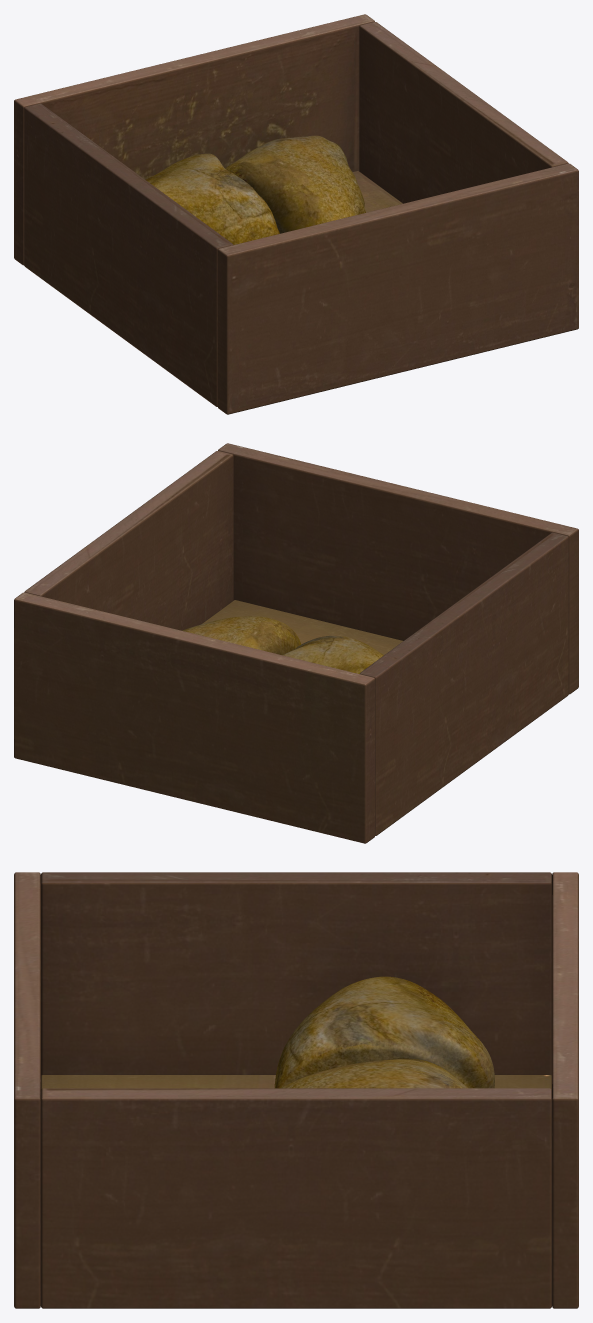
The model's file is caixa_02_rocha_alterada.glb.
The picture shows the model from 3 angles, top to bottom: view 1: azimuth 30°, elevation 25°; view 2: azimuth 150°, elevation 25°; view 3: azimuth 270°, elevation 25°; orthographic projection. The views are drawn at different scales.
Parts seen in each view (by area): view 1: Parede_Frontal_C02, Lateral_Esquerda_C02, Parede_Traseira_C02, Lateral_Direita_C02, Rocha_Alterada_Fragmento_02, Rocha_Alterada_Fragmento_01, Base_C02; view 2: Parede_Traseira_C02, Parede_Frontal_C02, Lateral_Esquerda_C02, Lateral_Direita_C02, Rocha_Alterada_Fragmento_02, Base_C02, Rocha_Alterada_Fragmento_01; view 3: Lateral_Direita_C02, Lateral_Esquerda_C02, Rocha_Alterada_Fragmento_01, Parede_Frontal_C02, Parede_Traseira_C02, Base_C02, Rocha_Alterada_Fragmento_02.
Boxes of the visible parts, <box> form: Parede_Frontal_C02: <box>217,163,578,414</box>; Lateral_Esquerda_C02: <box>24,103,233,406</box>; Parede_Traseira_C02: <box>14,14,374,265</box>; Lateral_Direita_C02: <box>359,22,568,203</box>; Rocha_Alterada_Fragmento_02: <box>225,135,365,233</box>; Rocha_Alterada_Fragmento_01: <box>145,153,279,244</box>; Base_C02: <box>353,171,402,212</box>; Parede_Traseira_C02: <box>14,592,375,843</box>; Parede_Frontal_C02: <box>218,443,578,694</box>; Lateral_Esquerda_C02: <box>359,532,568,835</box>; Lateral_Direita_C02: <box>24,451,233,630</box>; Rocha_Alterada_Fragmento_02: <box>182,616,301,655</box>; Base_C02: <box>201,600,403,654</box>; Rocha_Alterada_Fragmento_01: <box>283,635,383,673</box>; Lateral_Direita_C02: <box>41,1088,551,1308</box>; Lateral_Esquerda_C02: <box>41,872,551,1075</box>; Rocha_Alterada_Fragmento_01: <box>274,976,494,1088</box>; Parede_Frontal_C02: <box>14,872,40,1308</box>; Parede_Traseira_C02: <box>552,872,578,1308</box>; Base_C02: <box>41,1075,551,1089</box>; Rocha_Alterada_Fragmento_02: <box>280,1058,467,1088</box>.
Size of the model in its own units: 0.3 by 0.13 by 0.315.
Materials: 2 (2 with a texture image).
